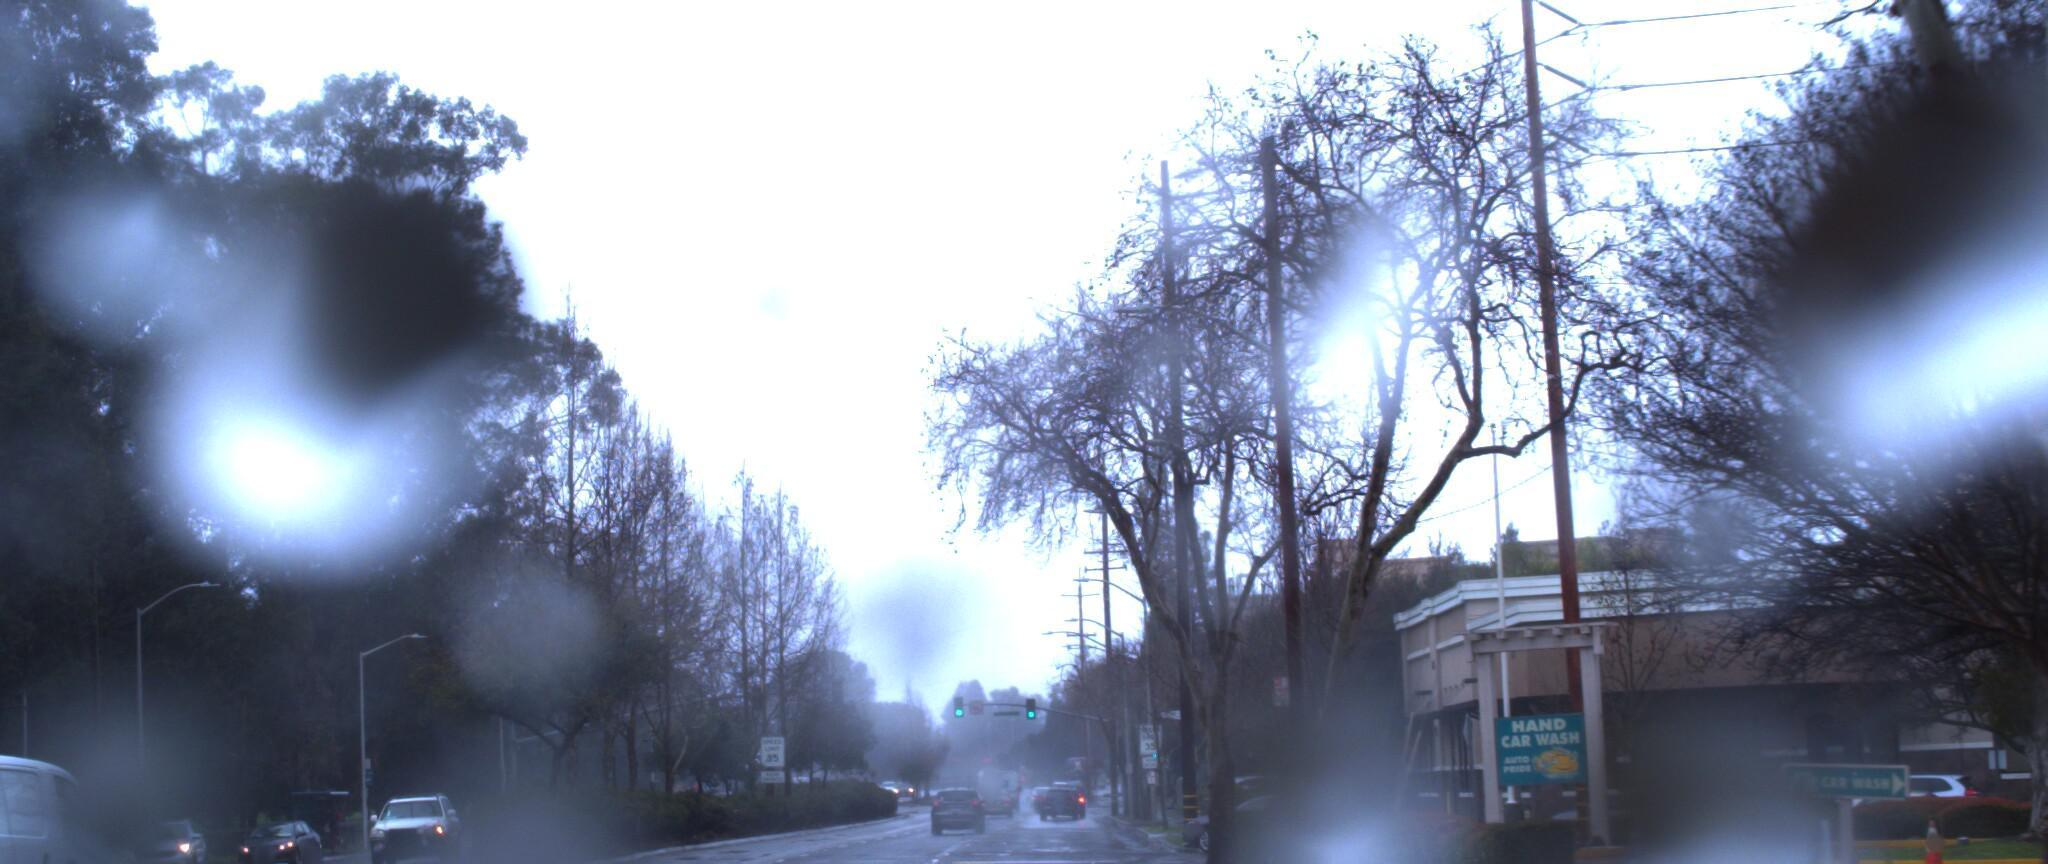car: (1166, 774, 1381, 844), (355, 780, 457, 859)
